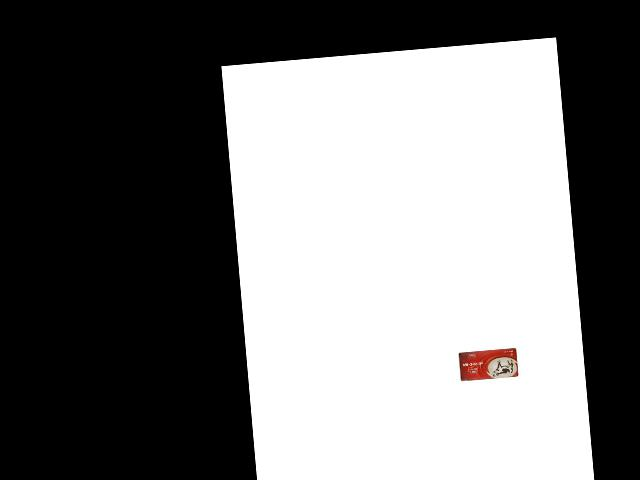chocolate: (456, 346, 518, 381)
